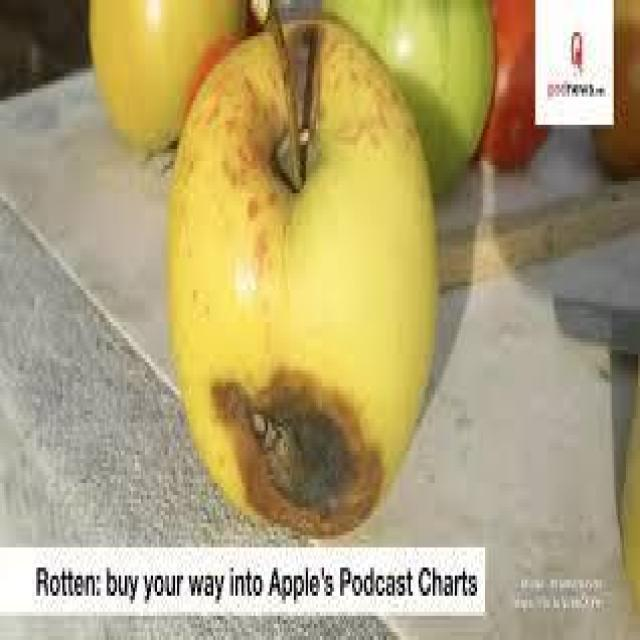maca: (165, 8, 439, 535)
